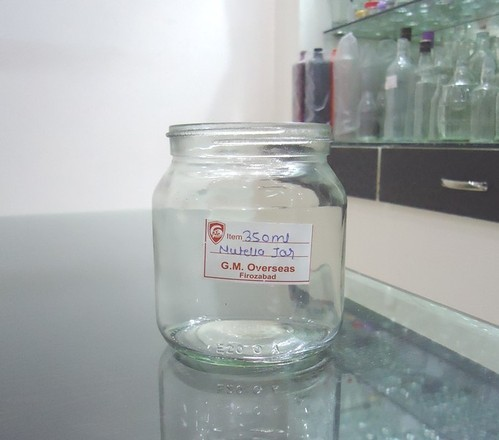Rec_Glass: (139, 111, 360, 373)
